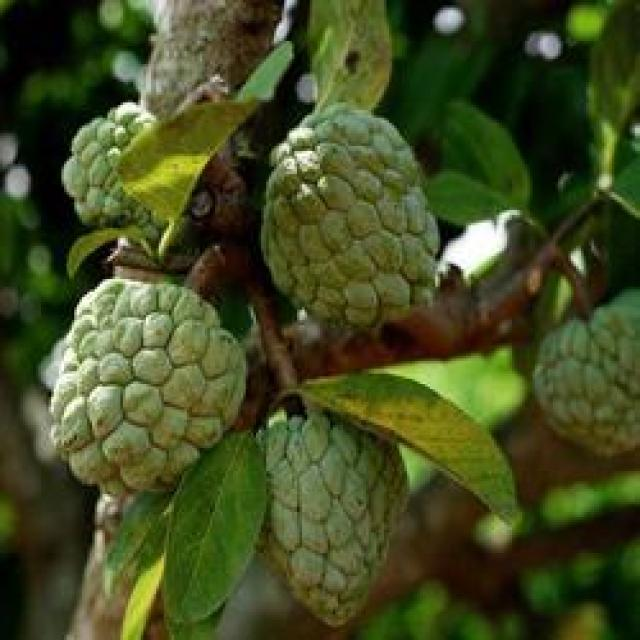apple: (43, 258, 251, 496), (254, 97, 451, 328), (233, 392, 417, 630)
